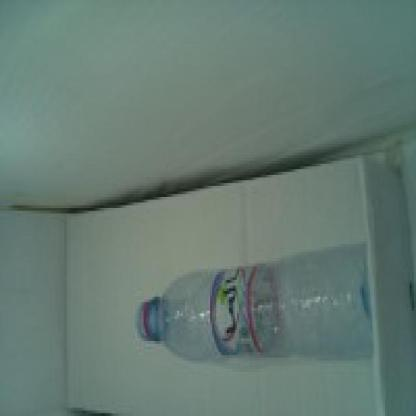Plastic Bottle: (137, 245, 372, 360)
